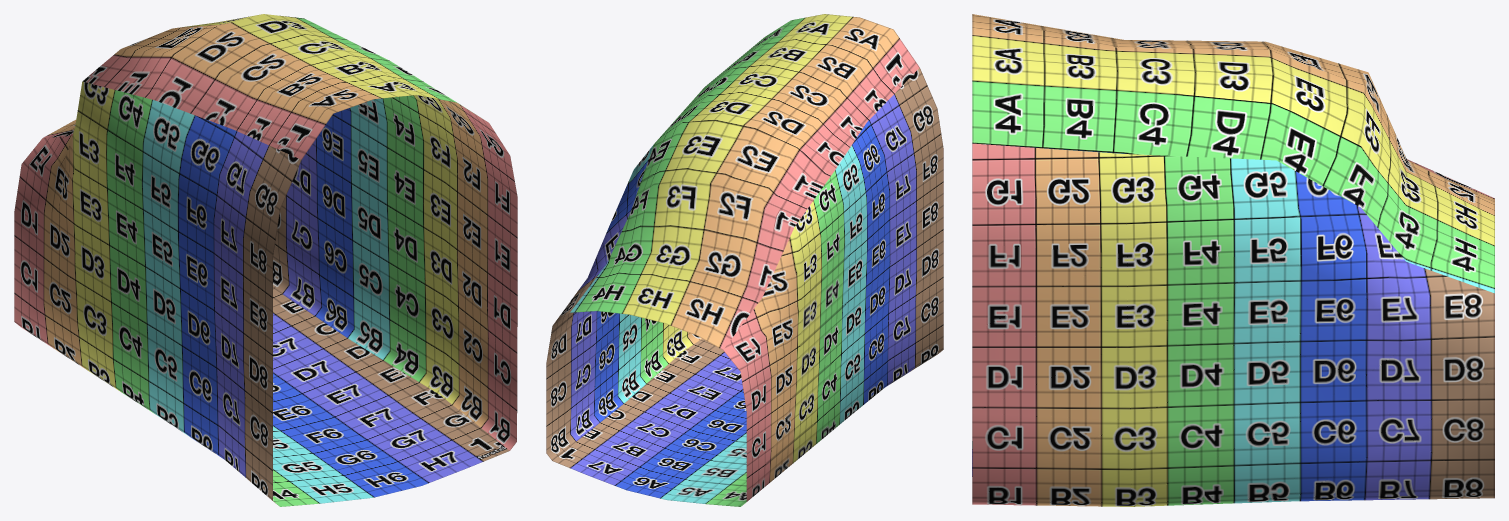
File: grotte_clifftoNormal.fbx
The picture shows the model from 3 angles, left to right: view 1: azimuth 30°, elevation 25°; view 2: azimuth 150°, elevation 25°; view 3: azimuth 270°, elevation 25°; orthographic projection. The views are drawn at different scales.
Visible parts, largest first — view 1: grotte_clifftoNormal; view 2: grotte_clifftoNormal; view 3: grotte_clifftoNormal.
Part boxes in pixels (x1,y1,x2,y2): grotte_clifftoNormal: [14, 14, 517, 506]; grotte_clifftoNormal: [546, 14, 943, 506]; grotte_clifftoNormal: [972, 14, 1494, 506].
Size of the model in its own units: 486 by 707 by 800.
1 material, 1 textured.
